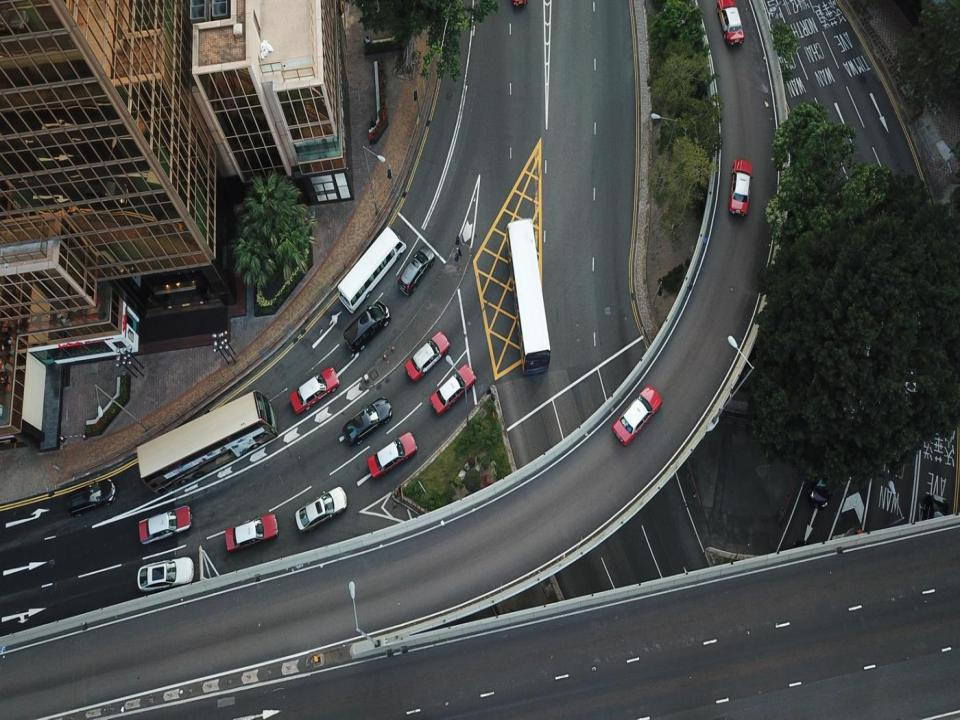bus: (137, 393, 281, 486), (508, 218, 553, 373), (332, 224, 410, 300)
car: (609, 383, 661, 444), (136, 499, 191, 548), (222, 510, 279, 556), (343, 398, 392, 449), (294, 490, 350, 534), (428, 363, 476, 414), (366, 433, 420, 477), (62, 475, 116, 519), (343, 299, 389, 349), (404, 332, 454, 377), (287, 366, 337, 410), (395, 247, 435, 298), (136, 554, 195, 588), (730, 159, 754, 218), (717, 1, 744, 49)
